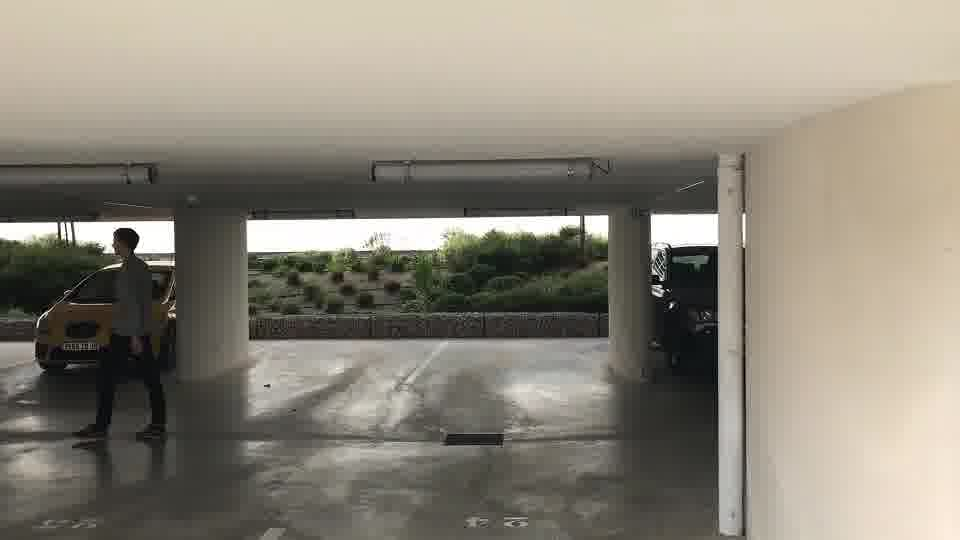jugador: (68, 225, 174, 446)
